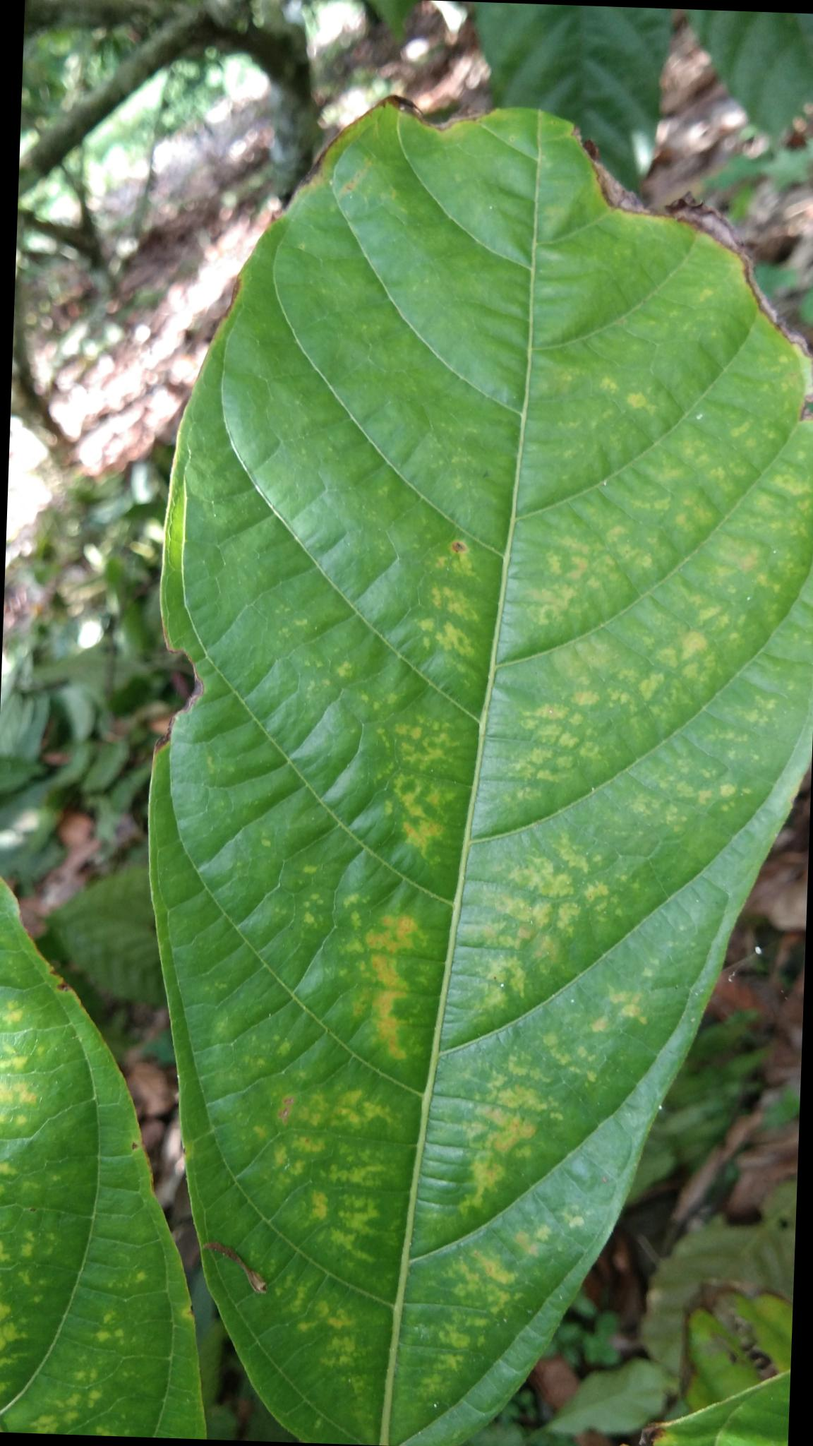Fosforo: (148, 77, 813, 1446)
